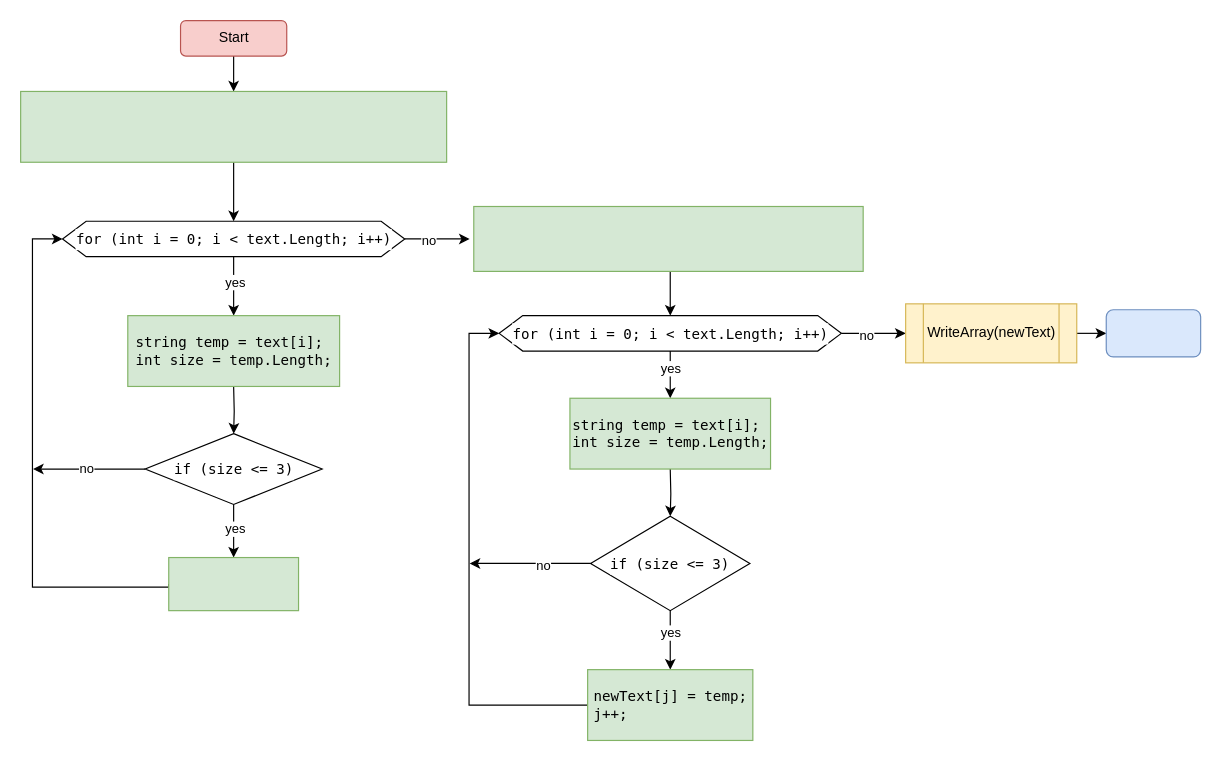
The diagram is 1221 pixels wide and 761 high, and some of its shapes have lost their labels. Here are the shapes that lost their labels. From the top down, the centre of each, then its label:
pixel 233 126: string[] text = {"hello", "2", "world", ":-)"}; int sizeNewArray = 0;
pixel 668 238: string[] newText = new string[sizeNewArray]; int j = 0;
pixel 1153 333: Finish
pixel 233 583: sizeNewArray++;
